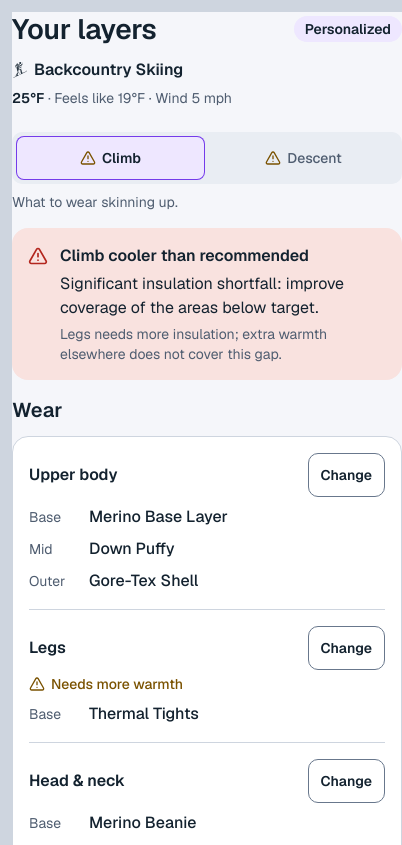
LayerDisplay › biophysics-only rendering › should show descent overheating risk card when descent clo exceeds target
This screenshot has width=402, height=845.
Click the button with aria-label "Descent, uneven warmth".
click(304, 158)  # box x1=209 y1=136 x2=398 y2=180
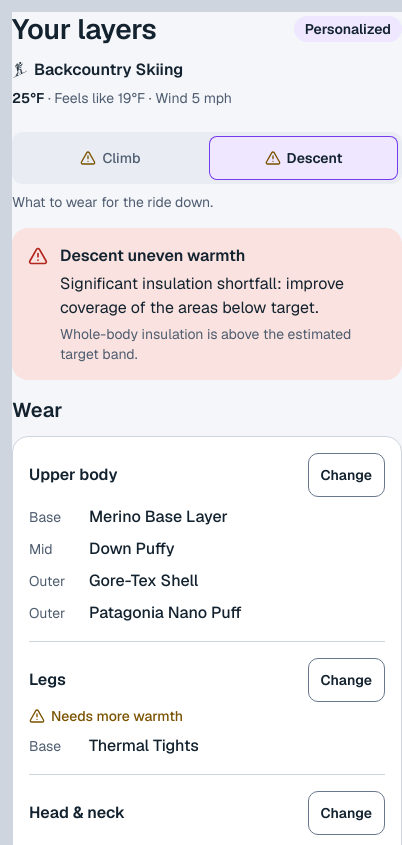
Check: the element "Descent uneven warmth" is shown, box x1=12 y1=228 x2=401 y2=380
